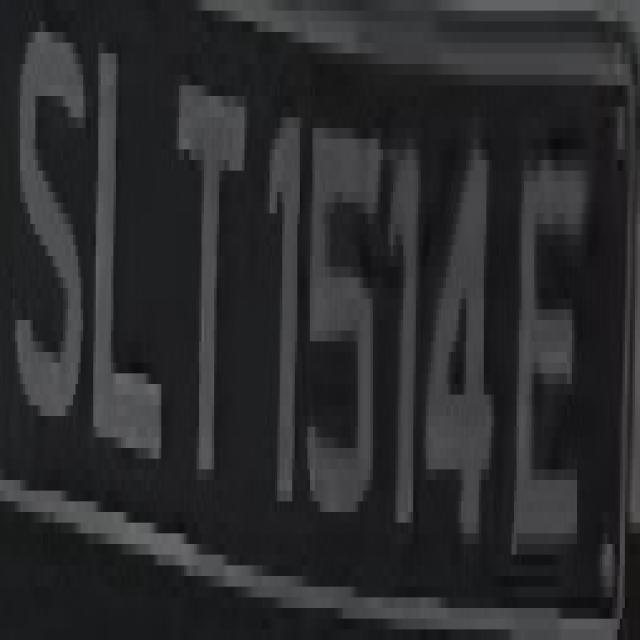1: (270, 106, 308, 554), (393, 149, 428, 544)
4: (423, 150, 494, 566)
5: (300, 106, 388, 522)
E: (514, 128, 590, 565)
L: (86, 21, 171, 480)
S: (20, 21, 88, 438)
T: (164, 43, 249, 512)
